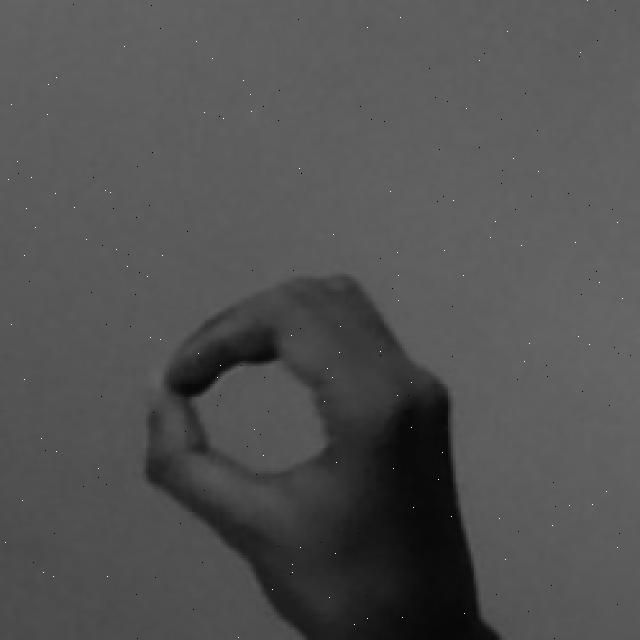O: (132, 265, 504, 640)
